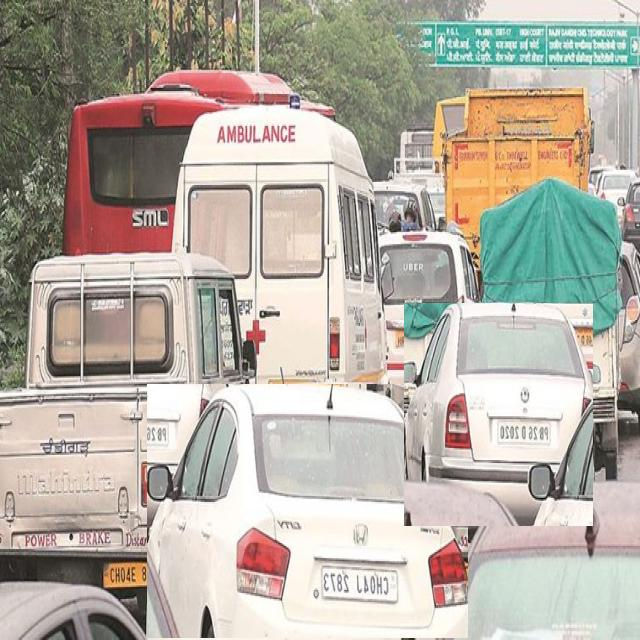bus: (62, 70, 294, 253)
car: (148, 385, 468, 638), (405, 303, 593, 526), (380, 232, 480, 388)
emergency: (172, 106, 386, 386)
truck: (0, 254, 254, 594), (481, 178, 621, 479), (432, 90, 591, 264)
